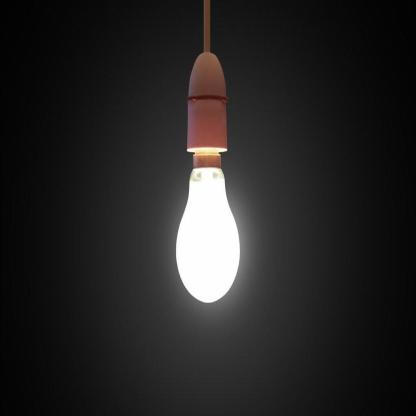other: (168, 146, 254, 316)
